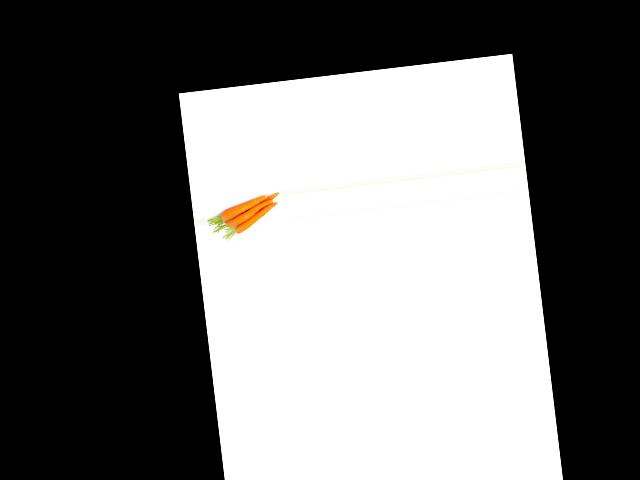carrot: (213, 192, 269, 222)
